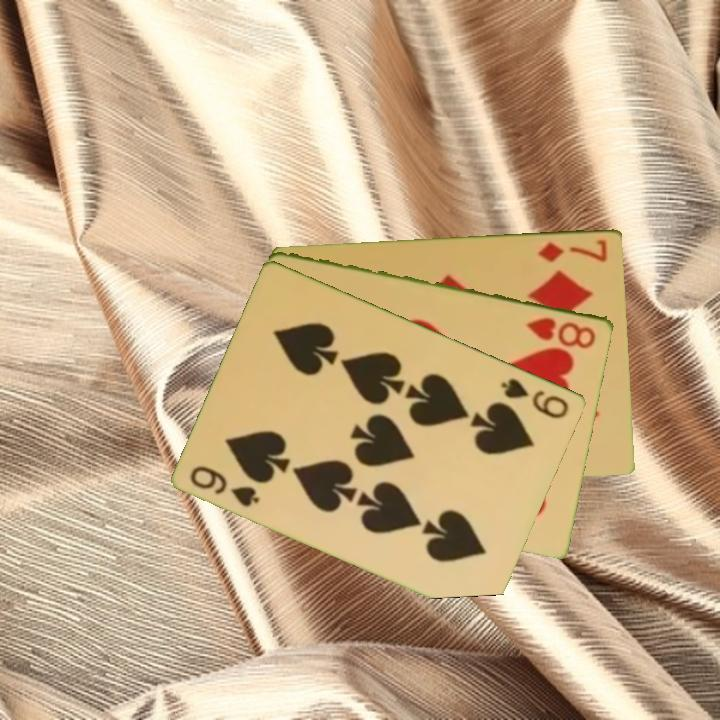7d: (534, 236, 611, 265)
8h: (523, 313, 599, 351)
9s: (187, 461, 263, 510), (498, 374, 573, 422)
